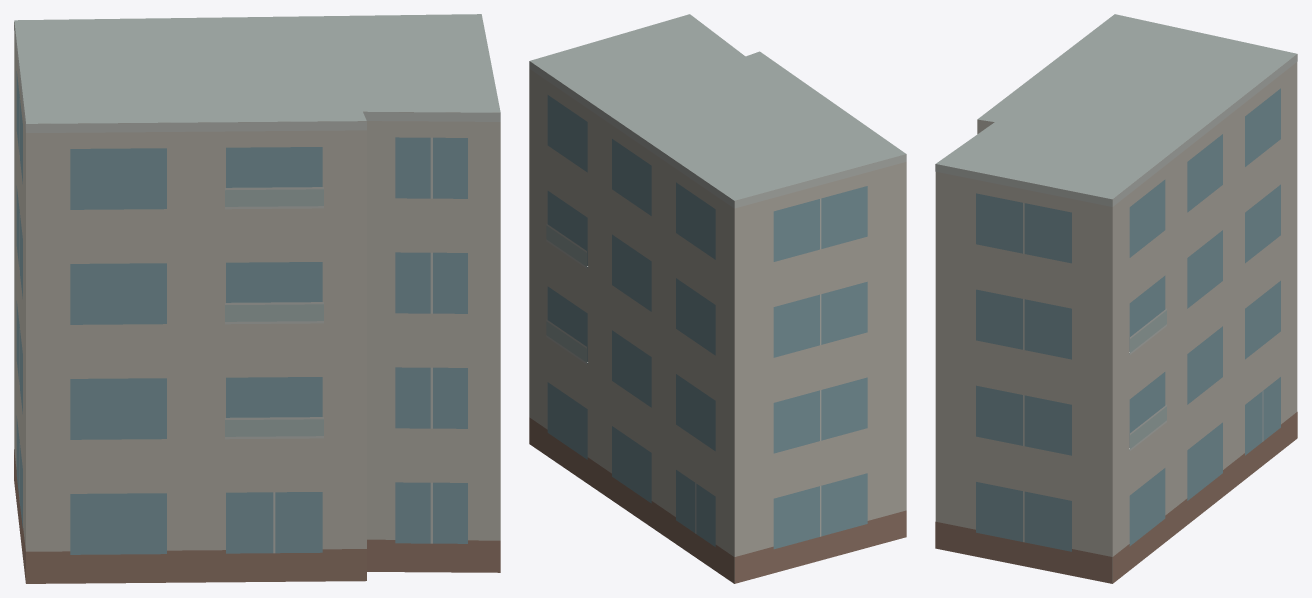
File: survey-upis-33034535.glb
3 renders of one model, left to right at view 1: azimuth 30°, elevation 25°; view 2: azimuth 150°, elevation 25°; view 3: azimuth 270°, elevation 25°, orthographic. The views are drawn at different scales.
Parts seen in each view (by area): view 1: survey-upis-33034535.tmp; view 2: survey-upis-33034535.tmp; view 3: survey-upis-33034535.tmp.
Boxes of the visible parts, box(x1,y1,x2,y2) form: survey-upis-33034535.tmp: box(14, 14, 500, 583); survey-upis-33034535.tmp: box(529, 14, 906, 583); survey-upis-33034535.tmp: box(935, 14, 1297, 583).
Bounding box in the file's own units: 12.52 × 12.1 × 10.33.
